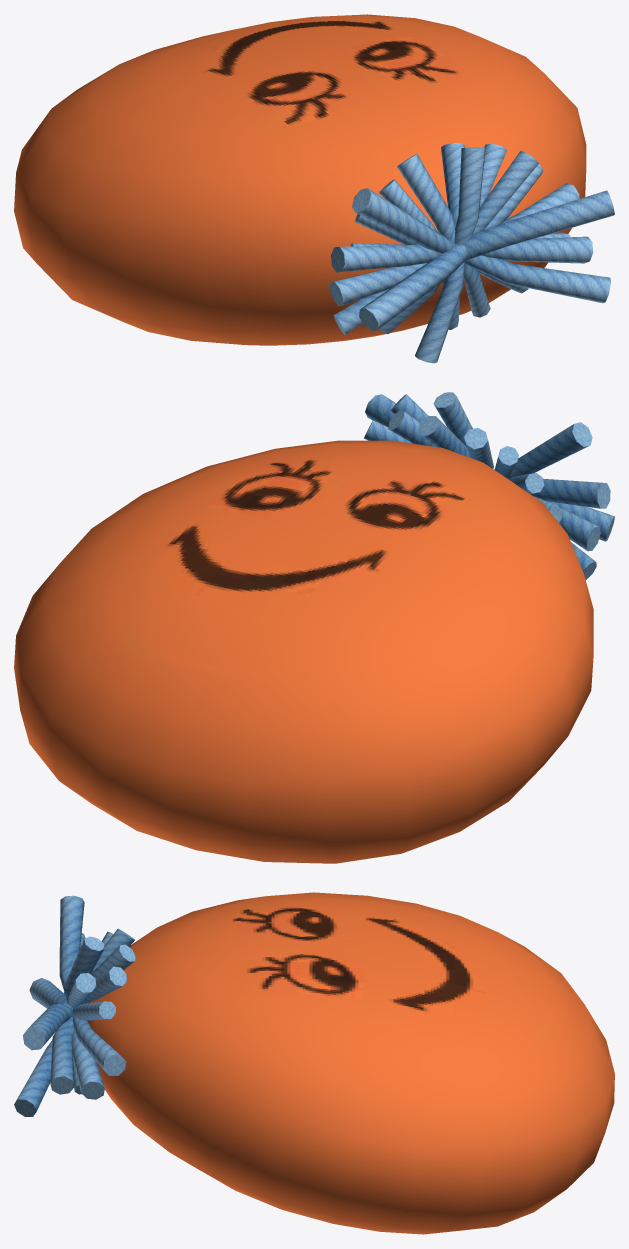
File: ref_gtsmiledoll.fbx
3 views of the same model, one above another, from view 1: azimuth 30°, elevation 25°; view 2: azimuth 150°, elevation 25°; view 3: azimuth 270°, elevation 25° (orthographic). The views are drawn at different scales.
Parts seen in each view (by area): view 1: ref_gtsmiledoll; view 2: ref_gtsmiledoll; view 3: ref_gtsmiledoll.
Part boxes in pixels (x1,y1,x2,y2): ref_gtsmiledoll: (14,14,614,363); ref_gtsmiledoll: (14,392,614,863); ref_gtsmiledoll: (14,892,614,1234).
Bounding box in the file's own units: 85.92 × 46.41 × 100.
1 material, 1 textured.
